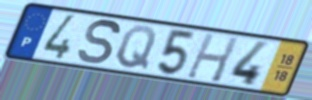4: (227, 40, 272, 87), (40, 13, 78, 62)
5: (154, 28, 197, 78)
H: (184, 31, 242, 85)
Q: (113, 24, 159, 72)
S: (76, 18, 123, 67)
